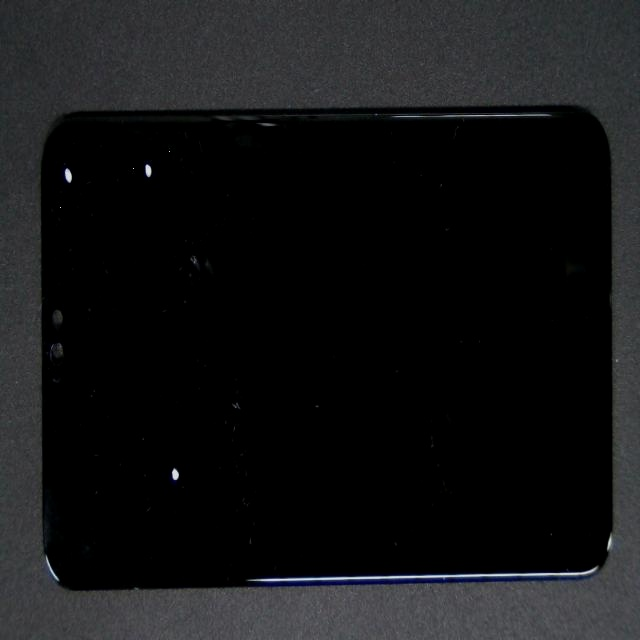stain: (75, 208, 252, 640), (64, 86, 193, 258), (17, 72, 86, 281)
